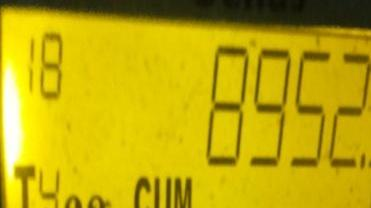0: (356, 150, 368, 171)
3: (333, 54, 371, 173)
6: (293, 47, 333, 163)
9: (199, 48, 251, 169)
:: (252, 47, 292, 162)
